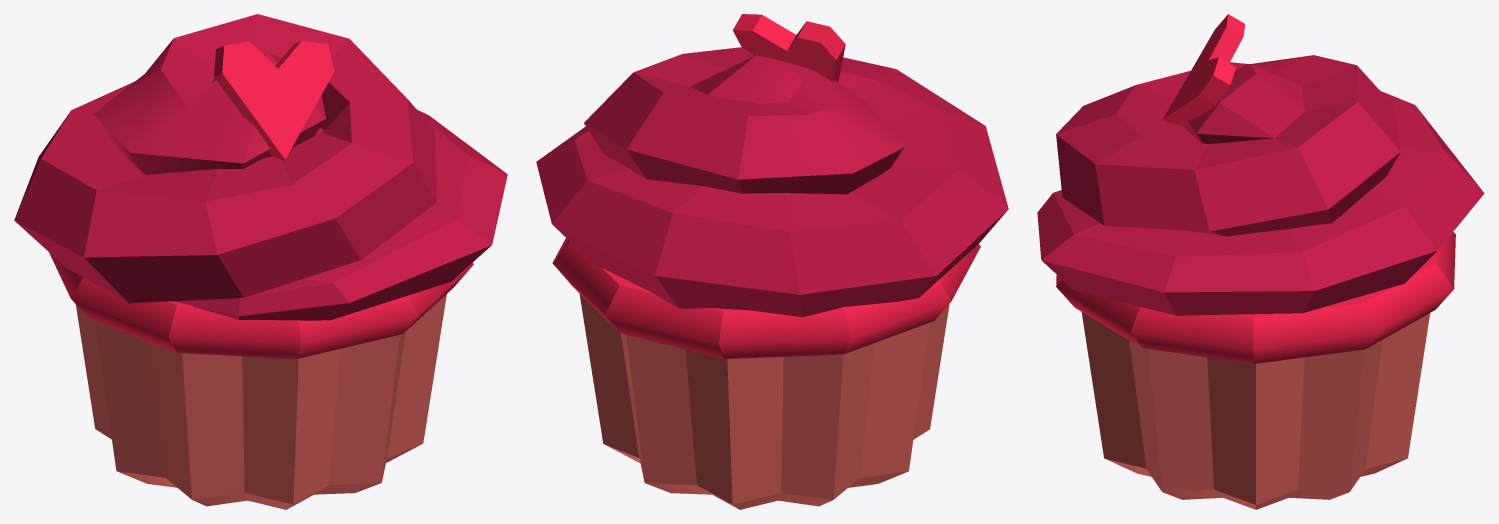
File: PW_cupcake_redvelvet.fbx
3 renders of one model, left to right at view 1: azimuth 30°, elevation 25°; view 2: azimuth 150°, elevation 25°; view 3: azimuth 270°, elevation 25°, orthographic. The views are drawn at different scales.
Parts seen in each view (by area): view 1: cupcake_redvelvet; view 2: cupcake_redvelvet; view 3: cupcake_redvelvet.
Boxes of the visible parts, left/top/right/bottom form: cupcake_redvelvet: left=14, top=14, right=507, bottom=509; cupcake_redvelvet: left=536, top=14, right=1008, bottom=509; cupcake_redvelvet: left=1037, top=14, right=1484, bottom=509.
Bounding box in the file's own units: 19.82 × 20.01 × 19.32.
1 material, 1 textured.
